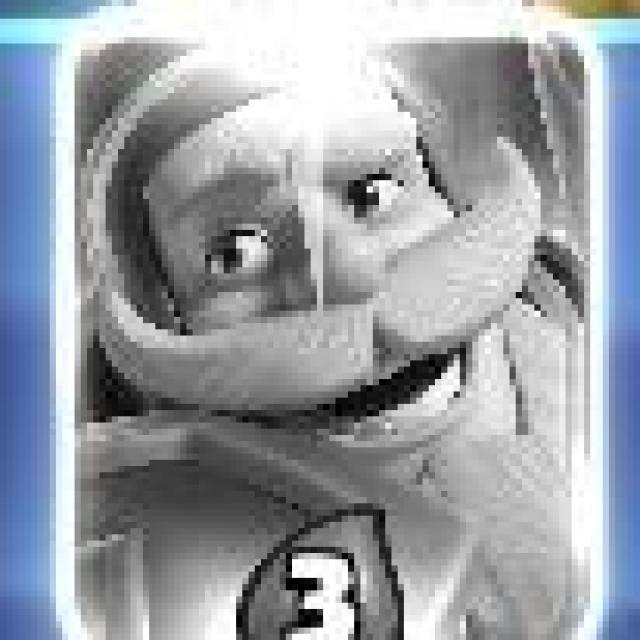Evolved_Knight: (45, 5, 609, 638)
